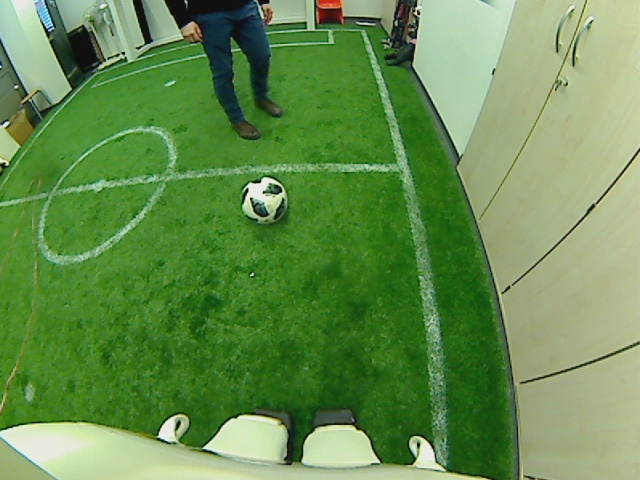ball: (241, 176, 287, 224)
